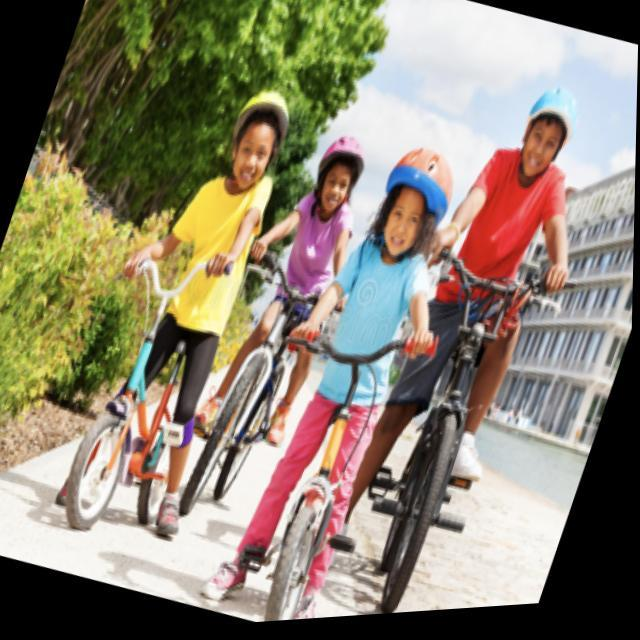Helmet: (365, 144, 465, 264), (210, 79, 289, 193), (302, 128, 370, 222)
